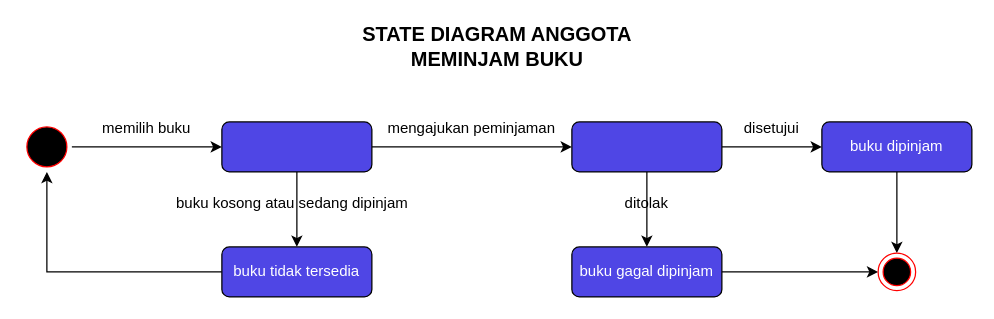
Some shapes in this 994 by 319 pixel diagram are drawn without their labels. The shapes that lost their labels are listed below. From the top down, each one's centre as x and y in pixels, then its label:
At pixel 296 146: "cek ketersediaan buku".
At pixel 646 146: "pemrosesan".
